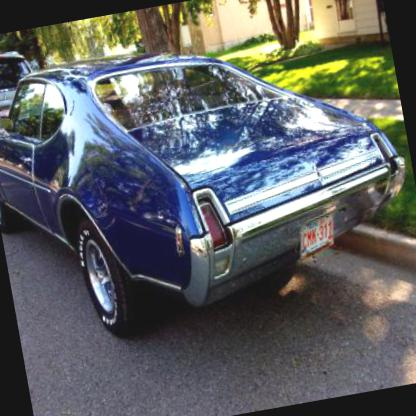car: (0, 4, 415, 361), (0, 39, 54, 182)
